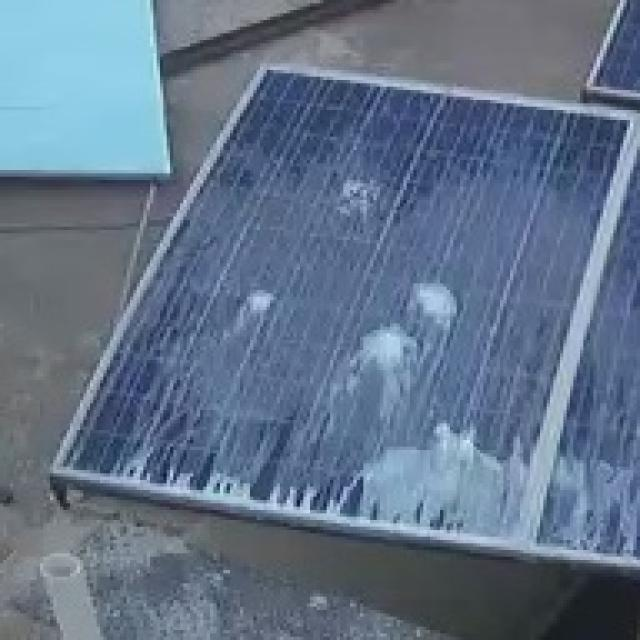Bird-drop: (347, 430, 532, 535), (347, 312, 420, 413), (403, 274, 465, 341), (212, 282, 280, 342), (334, 171, 390, 226)
